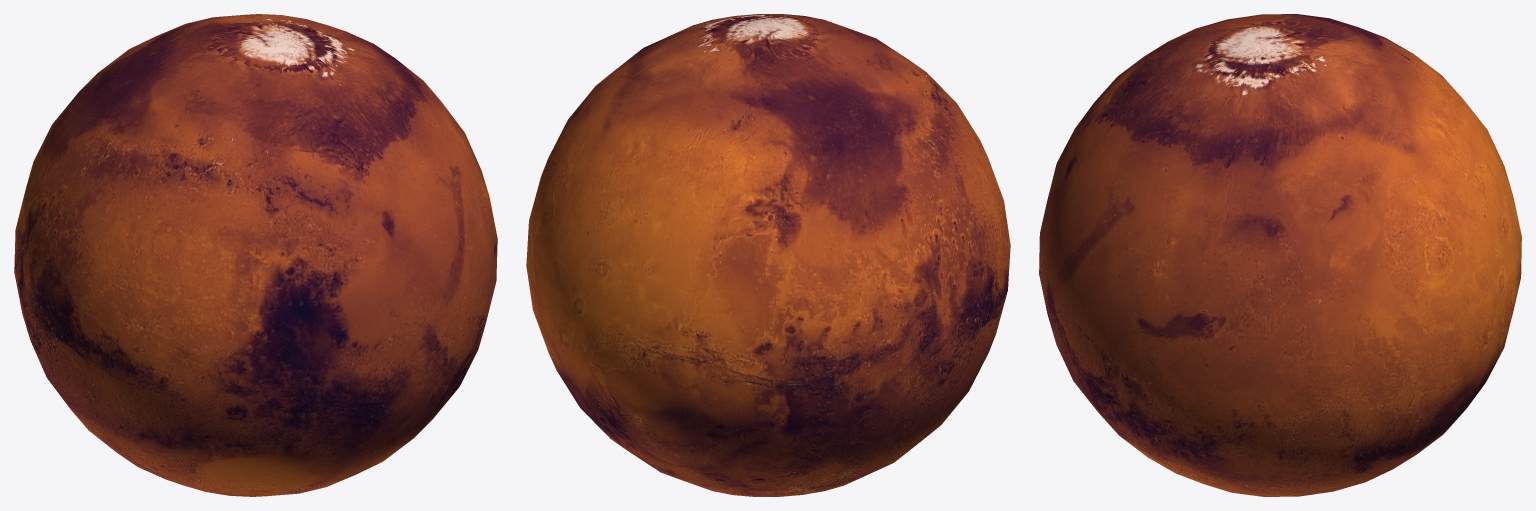
Rendered from Mars.dae.
3 renders of one model, left to right at view 1: azimuth 30°, elevation 25°; view 2: azimuth 150°, elevation 25°; view 3: azimuth 270°, elevation 25°, orthographic.
Parts seen in each view (by area): view 1: SketchUp; view 2: SketchUp; view 3: SketchUp.
Part boxes in pixels (bbox=[...]): SketchUp: bbox=[14, 14, 497, 496]; SketchUp: bbox=[526, 14, 1010, 496]; SketchUp: bbox=[1039, 14, 1521, 496].
Bounding box in the file's own units: 95.94 × 96.05 × 96.13.
1 material, 1 textured.
